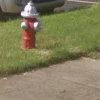Hydrant: (14, 3, 42, 49)
